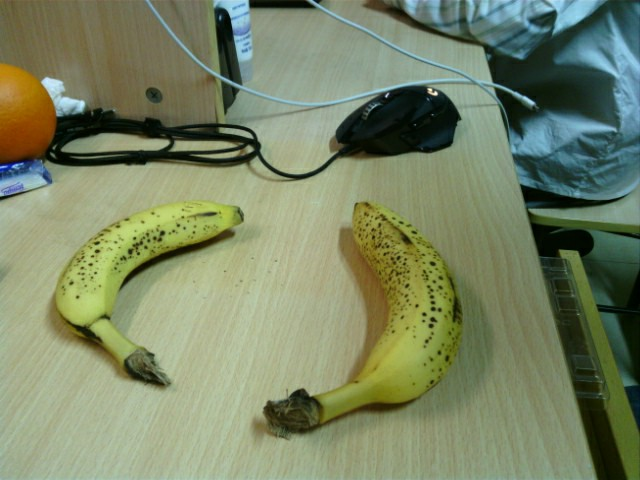normal_banana: (263, 201, 463, 441), (56, 200, 245, 388)
